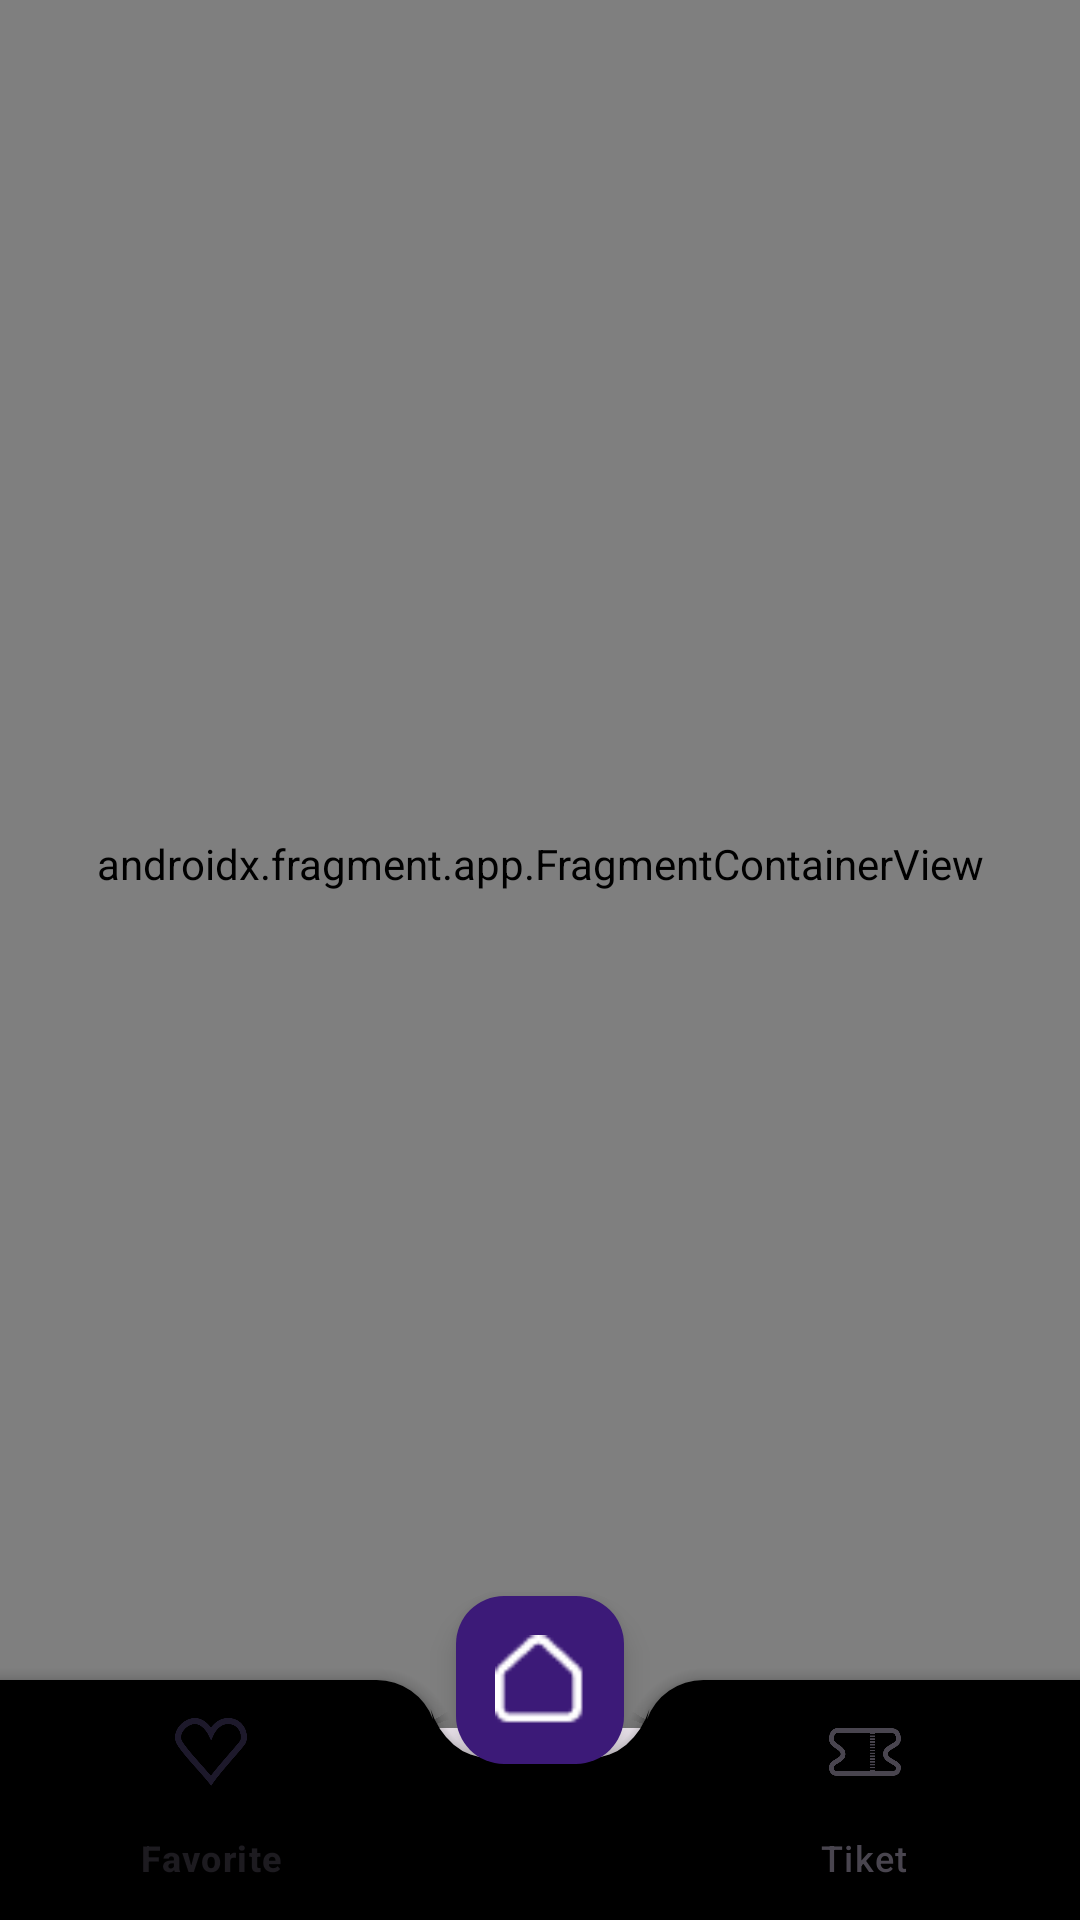

Screen size 1080*1920. Icon name, then its box in pixels as rect(x1, y1, x2, y2):
homep: rect(456, 1596, 624, 1764)
